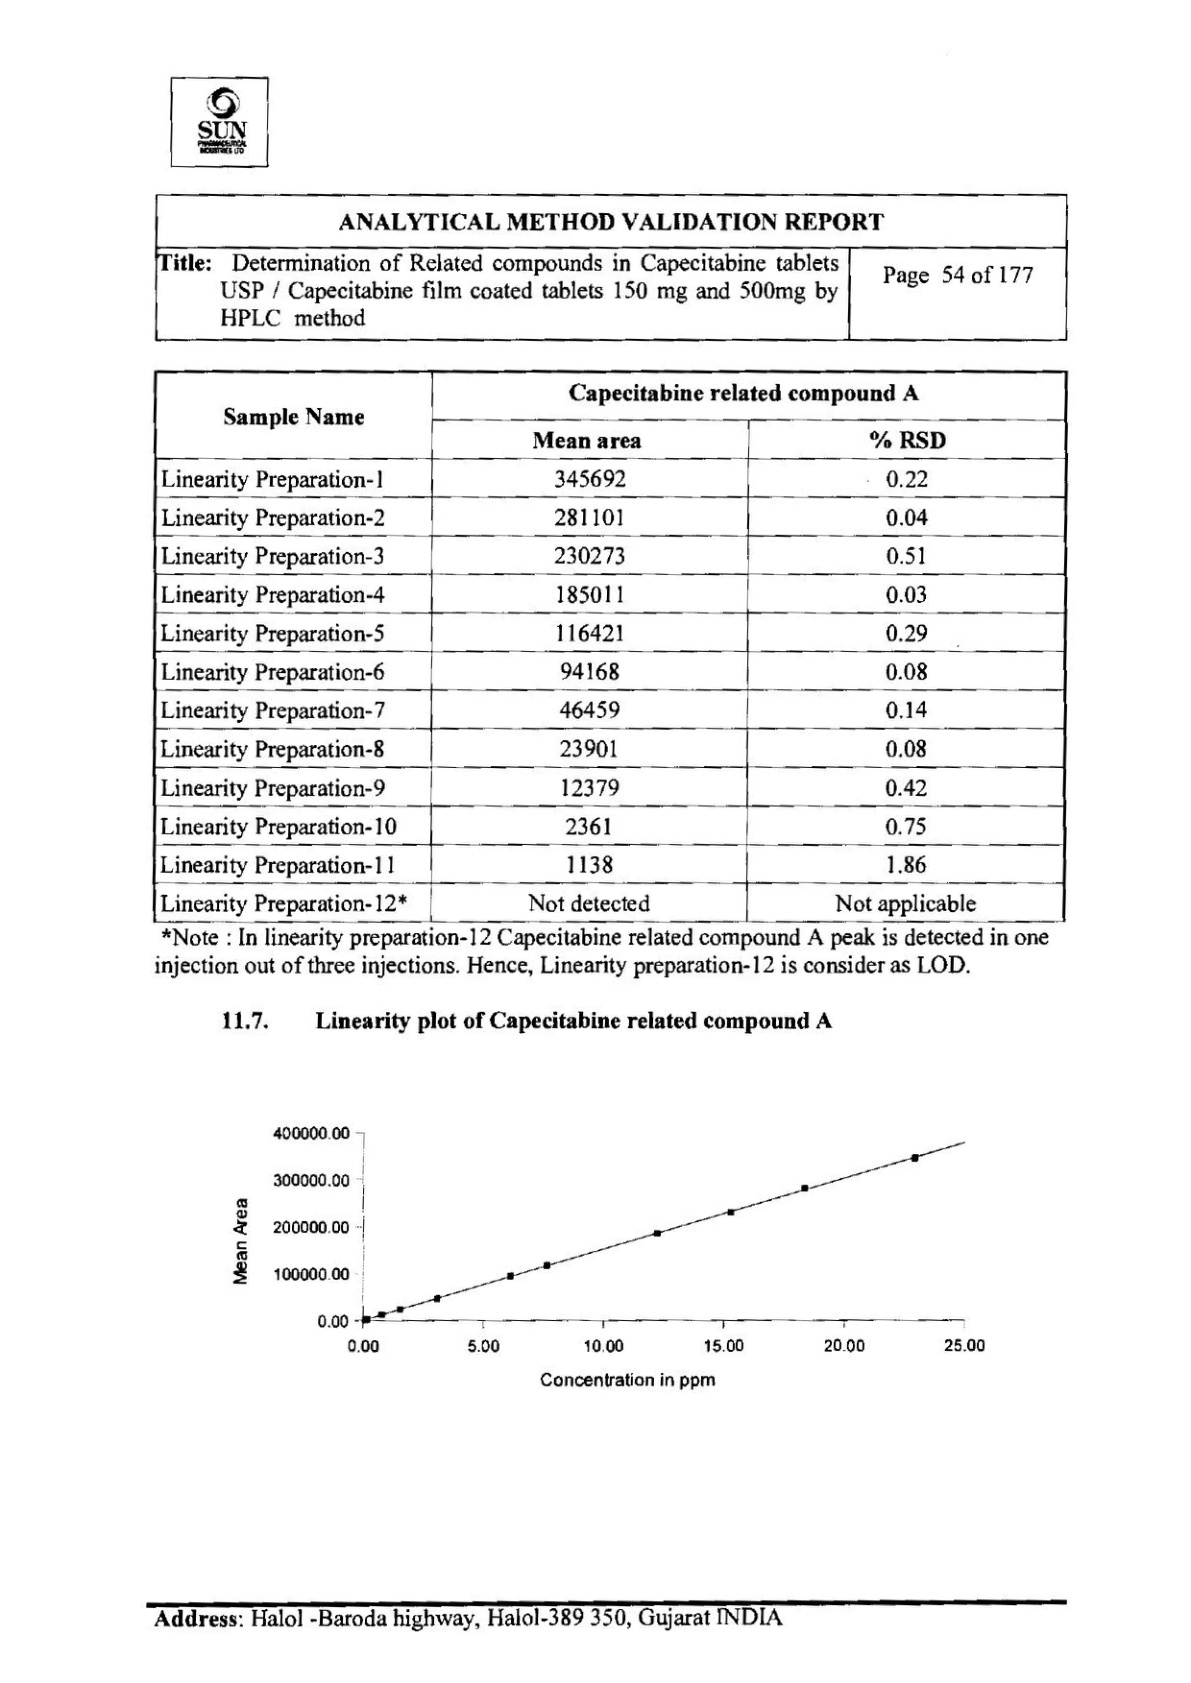merged_cells: (152, 369, 1069, 925), (152, 189, 1069, 343)
